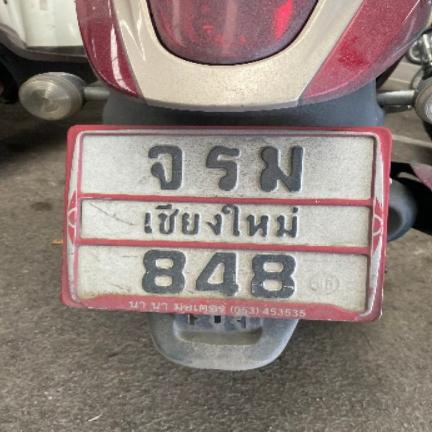4: (194, 249, 240, 296)
8: (249, 250, 300, 301), (136, 246, 187, 295)
A08: (142, 141, 187, 192)
A33: (255, 143, 312, 193)
A35: (198, 141, 245, 194)
CMI: (133, 200, 306, 242)
